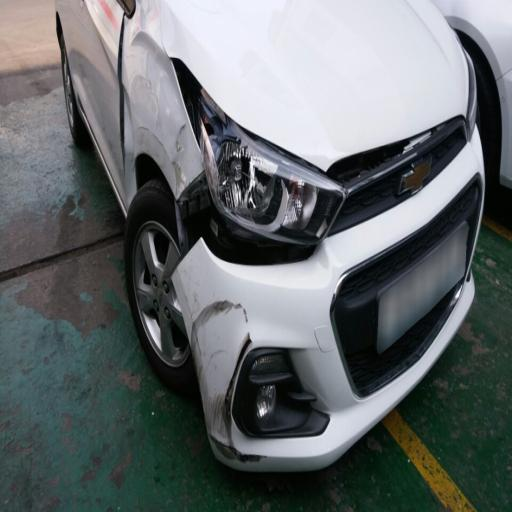broken: (189, 80, 318, 279)
dent: (126, 18, 194, 213)
scratch: (179, 266, 273, 457)
